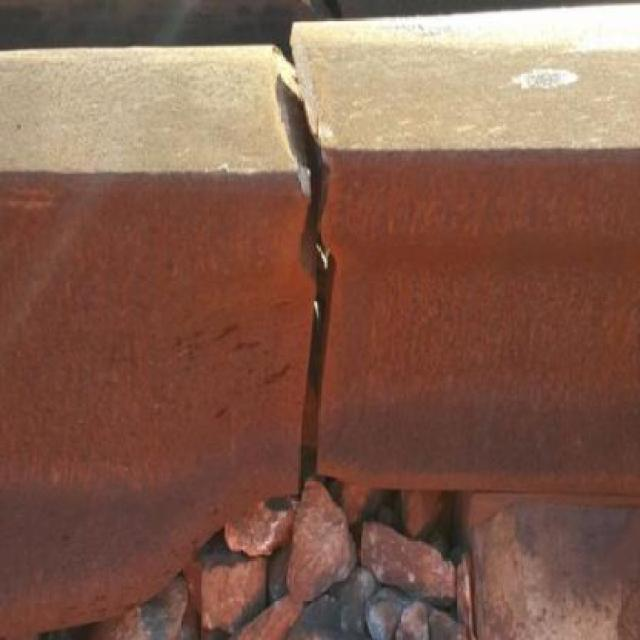defective: (24, 5, 606, 592)
